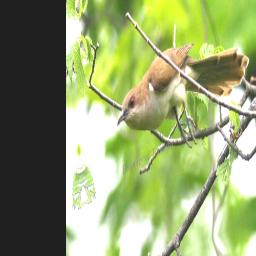Cuckoo: (112, 6, 256, 185)
